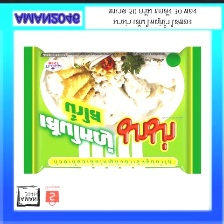snack: (18, 40, 206, 180)
